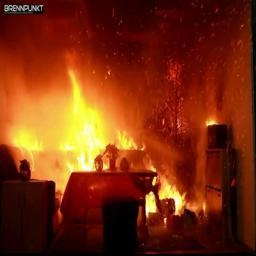fire: (6, 37, 205, 211)
